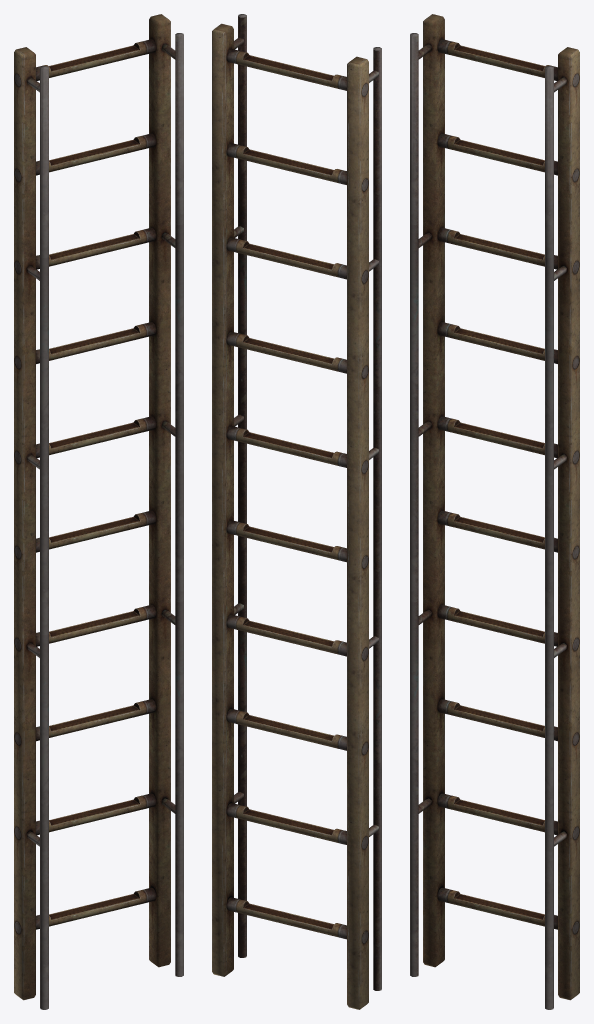
The model's file is 02_05_ladder_grab.dae.
3 renders of one model, left to right at view 1: azimuth 30°, elevation 25°; view 2: azimuth 150°, elevation 25°; view 3: azimuth 330°, elevation 25°, orthographic.
Parts seen in each view (by area): view 1: polySurface3; view 2: polySurface3; view 3: polySurface3.
Boxes of the visible parts, x1,y1,x2,y2 form: polySurface3: (14, 14, 183, 1009); polySurface3: (212, 14, 381, 1009); polySurface3: (410, 14, 579, 1009).
Size of the model in its own units: 0.8281 by 5.01 by 0.2563.
